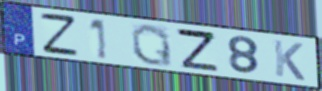1: (87, 18, 109, 61)
8: (226, 35, 261, 76)
K: (271, 38, 307, 83)
Q: (129, 22, 175, 68)
Z: (174, 27, 221, 73), (38, 12, 80, 57)
